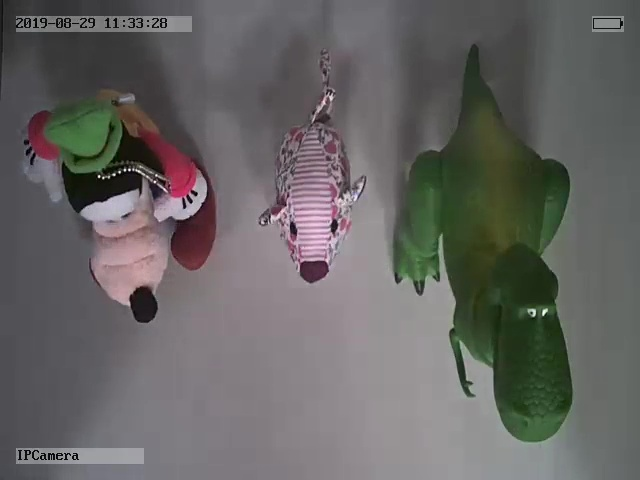goofy: (21, 89, 217, 322)
pig: (258, 49, 368, 284)
rex: (392, 43, 577, 443)
